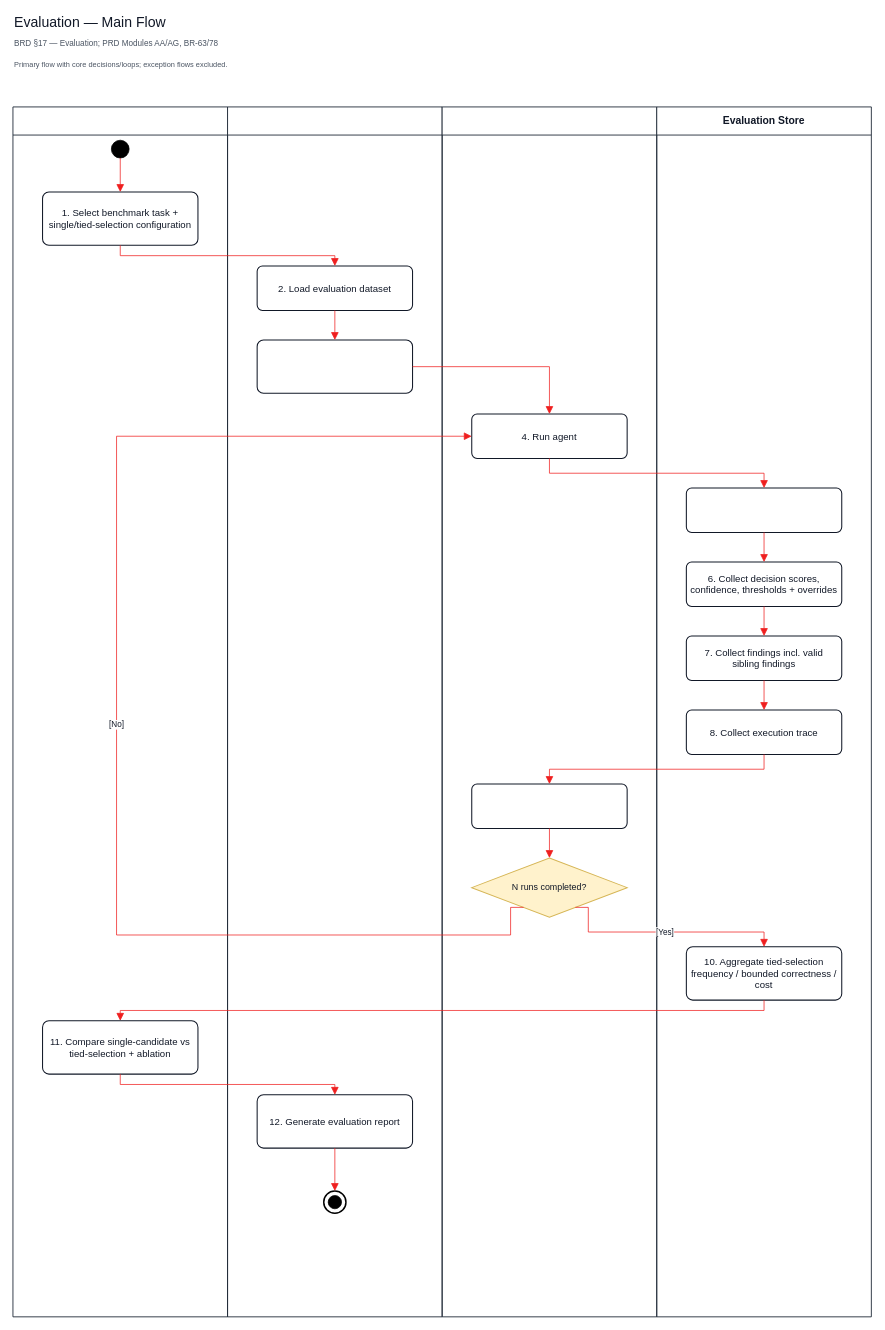
This 885x1330 diagram has some shape labels left out. Here are the shapes that lost their labels. From the top down, the box of each, then its label:
(256, 339, 413, 393): 3. Load research question / hypothesis + tied-selection config
(685, 487, 842, 533): 5. Collect experiment records
(12, 106, 228, 1317): Researcher / Project Manager / System Administrator
(227, 106, 442, 1317): Web App
(441, 106, 657, 1317): Agent Runner
(471, 783, 627, 829): 9. Score gate quality + numeric decision-score calibration
